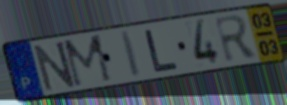4: (192, 17, 222, 68)
I: (119, 29, 143, 79)
L: (142, 28, 181, 74)
M: (61, 32, 116, 90)
N: (31, 39, 78, 93)
R: (212, 13, 261, 65)
